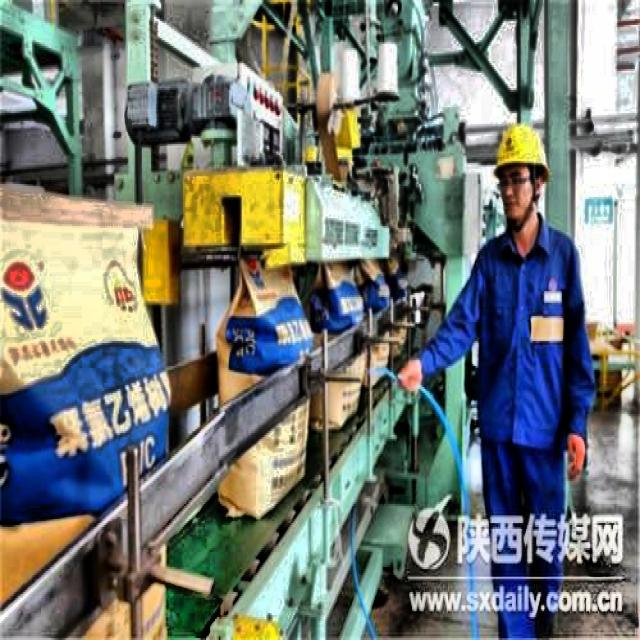helmet: (485, 109, 553, 234)
